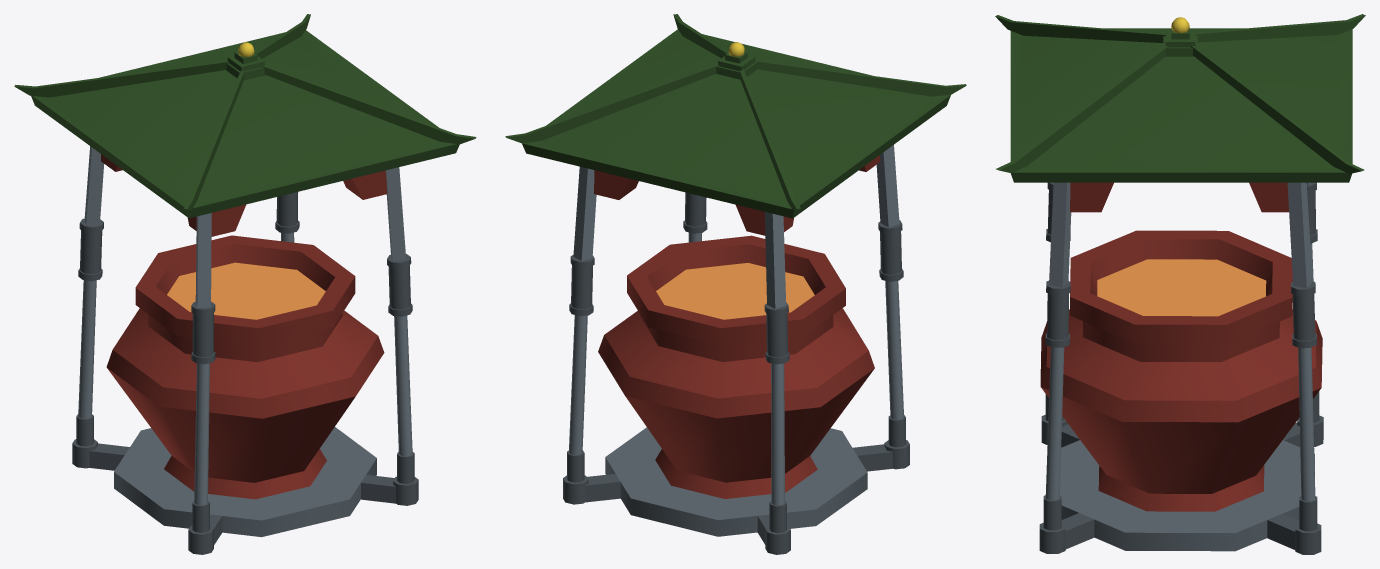
File: Statue_3.fbx
The picture shows the model from 3 angles, left to right: view 1: azimuth 30°, elevation 25°; view 2: azimuth 150°, elevation 25°; view 3: azimuth 270°, elevation 25°; orthographic projection. The views are drawn at different scales.
Visible parts, largest first — view 1: Statue_3; view 2: Statue_3; view 3: Statue_3.
Part boxes in pixels (x1=…): Statue_3: x1=14, y1=14, x2=476, y2=554; Statue_3: x1=505, y1=14, x2=966, y2=554; Statue_3: x1=995, y1=14, x2=1365, y2=554.
Size of the model in its own units: 161 by 228 by 160.
